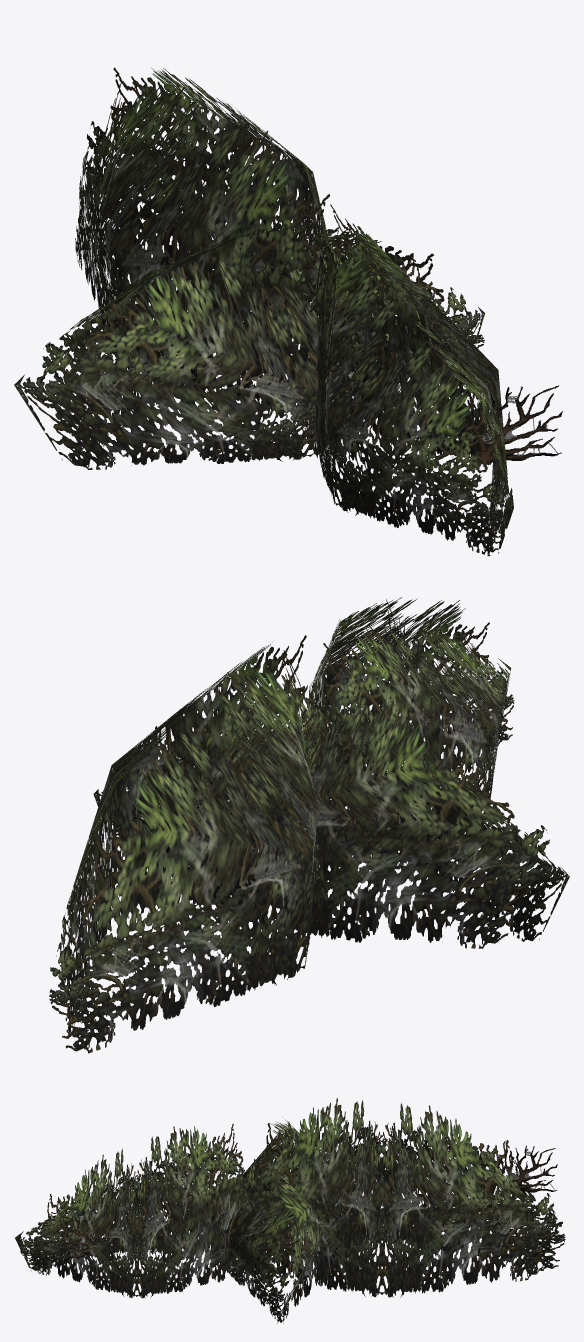
File: duskwoodspookybush02.obj
3 renders of one model, top to bottom at view 1: azimuth 30°, elevation 25°; view 2: azimuth 150°, elevation 25°; view 3: azimuth 270°, elevation 25°, orthographic. The views are drawn at different scales.
Visible parts, largest first — view 1: Geoset0, Geoset1; view 2: Geoset0; view 3: Geoset0, Geoset1.
Part boxes in pixels (x1,y1,x2,y2): Geoset0: (14,67,513,556); Geoset1: (468,385,562,464); Geoset0: (49,597,569,1053); Geoset0: (15,1098,565,1323); Geoset1: (61,1141,557,1260).
Bounding box in the file's own units: 7.77 × 4.54 × 12.8.
2 materials, 2 textured.
